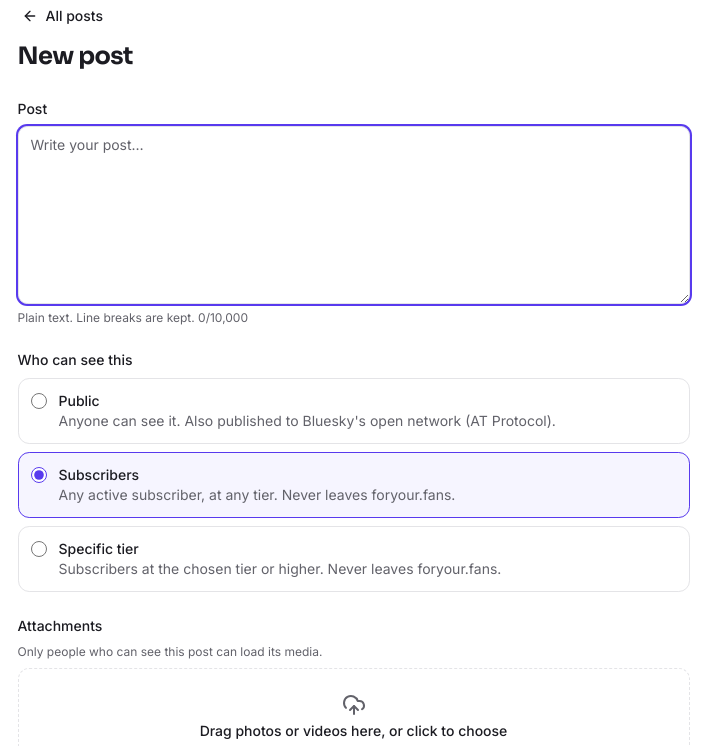
Test: PostComposer › shows the mandated warning only while Public is selected
Click the radio button labelled "Public".
click(38, 401)  # box [30,393,46,409]
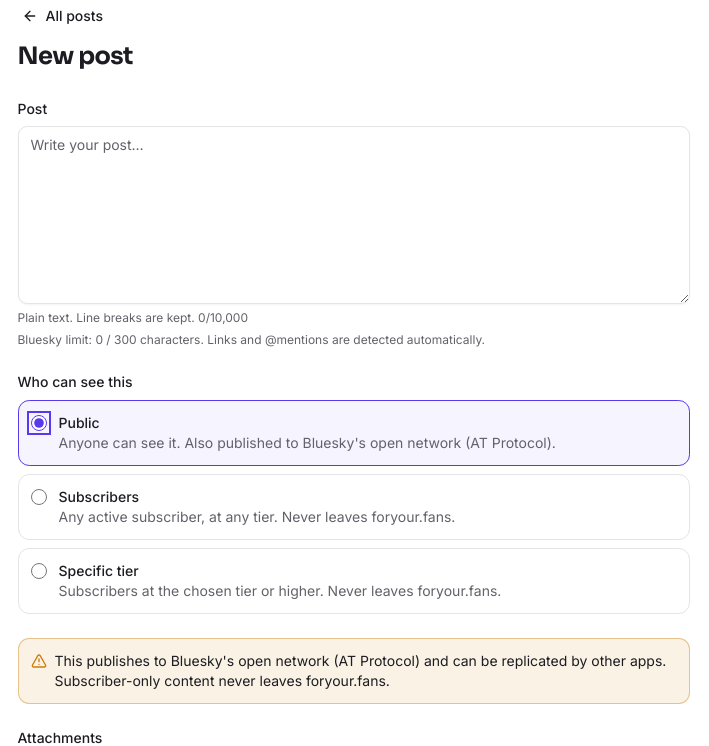
Expected: the text "replicated by other apps" is shown, [54,652,666,689]
Click the radio button labelled "Subscribers".
click(38, 497)  # box [30,489,46,505]
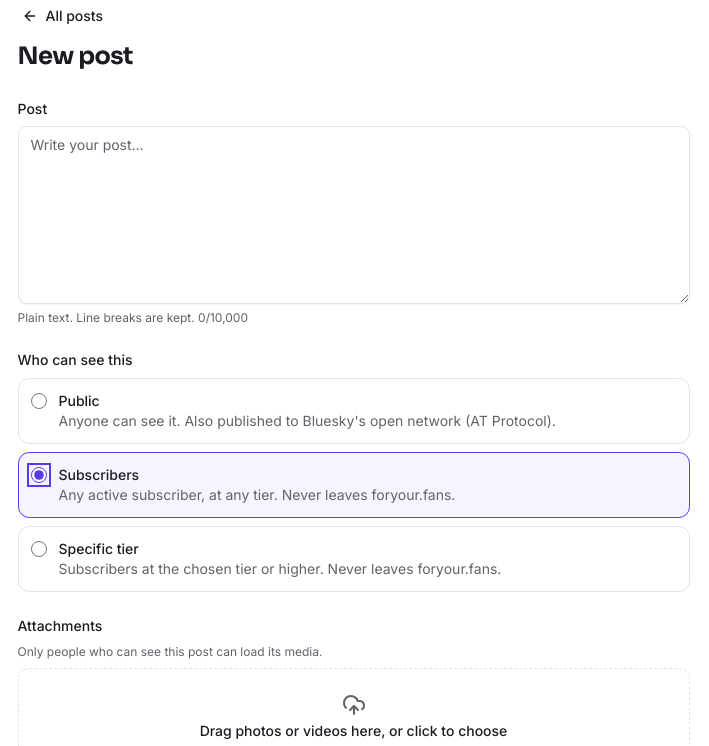
Expected: the text "replicated by other apps" is gone
